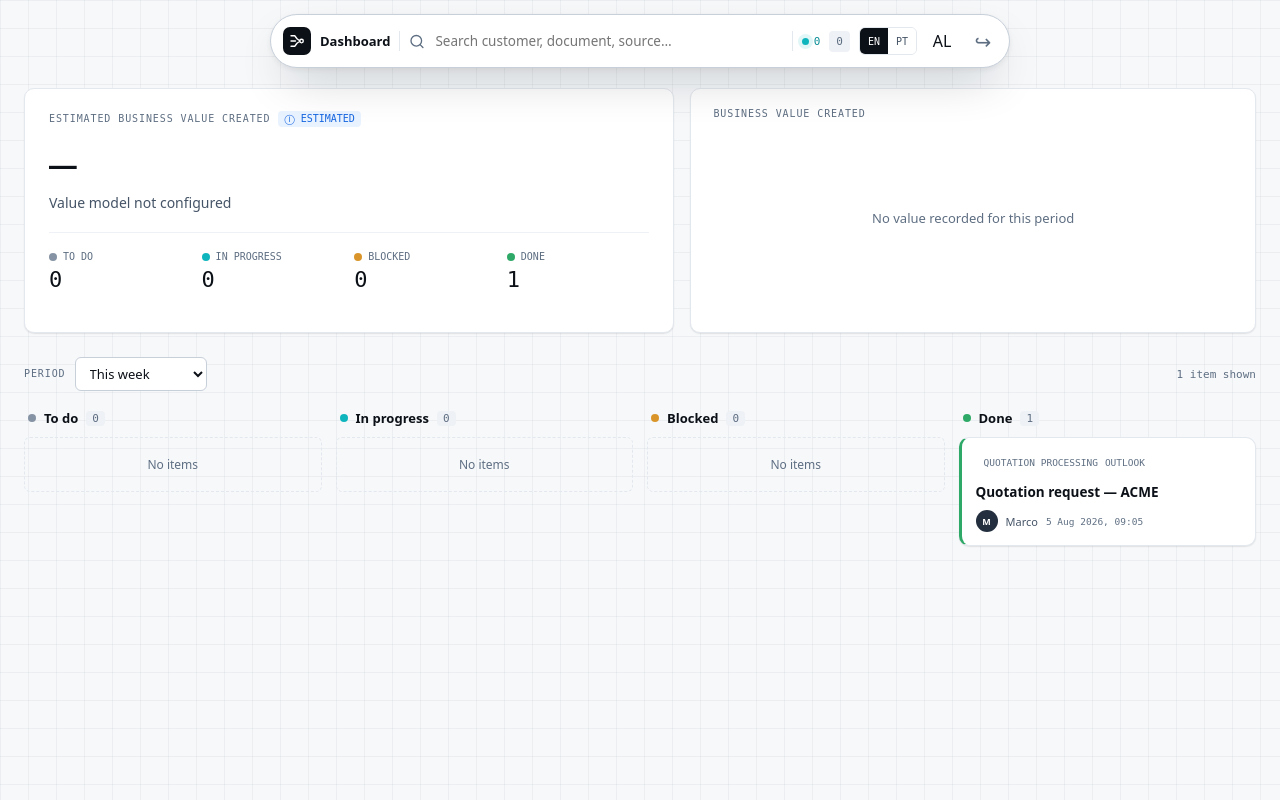
Scenario: Platform v1 Dashboard › renders an Operator board whose value fields were clipped by the server
Expected: the text "Value model not configured" is shown, 49,193 -> 232,212
Expected: the text "No value recorded for this period" is shown, 872,208 -> 1074,226
Click the text "Quotation request — ACME".
click(1067, 492)  # box 976,483 -> 1158,501
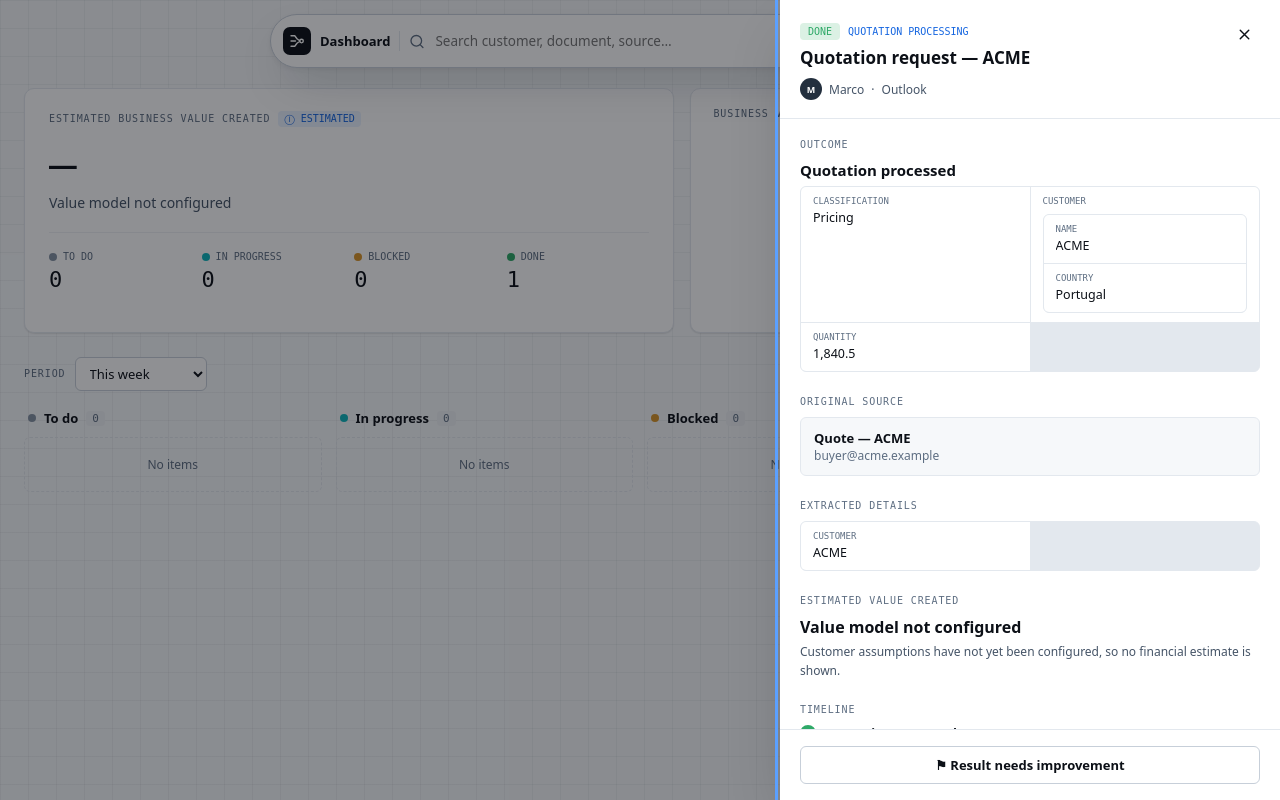
Now the heading "Quotation processed" is shown, box 800,160 -> 956,180
